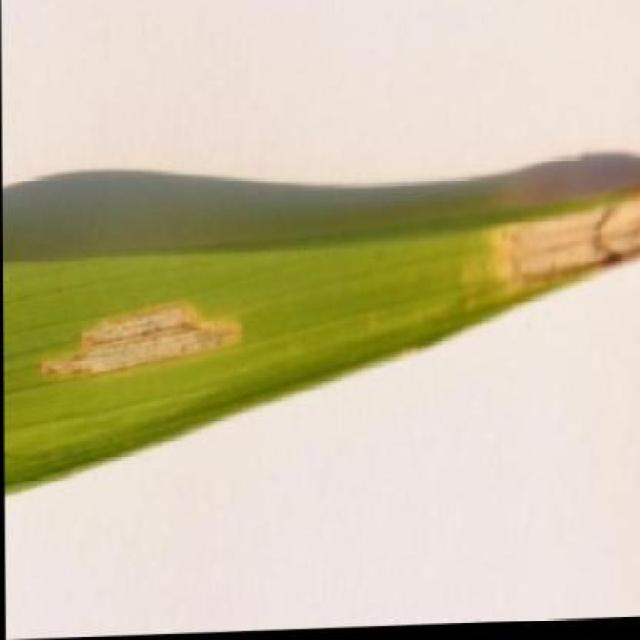Brown_Spot: (0, 189, 640, 494)
